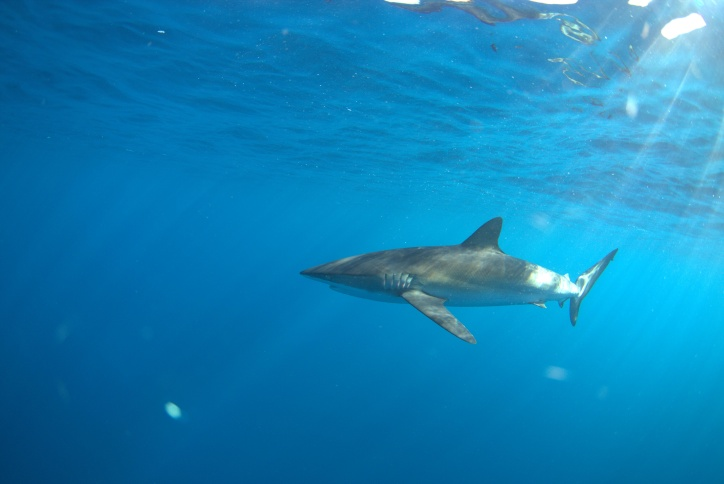Sedoso: (291, 206, 624, 366)
